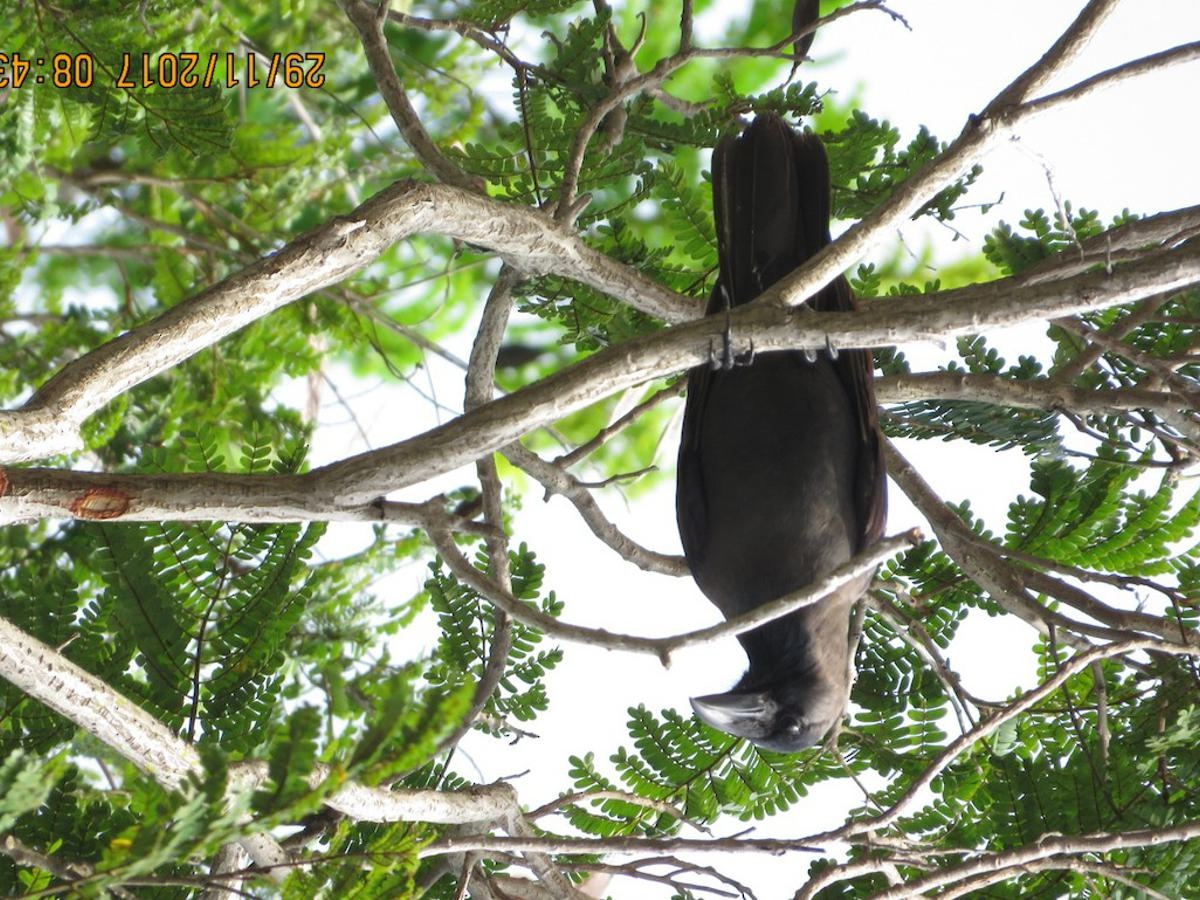crow: (685, 117, 890, 759)
